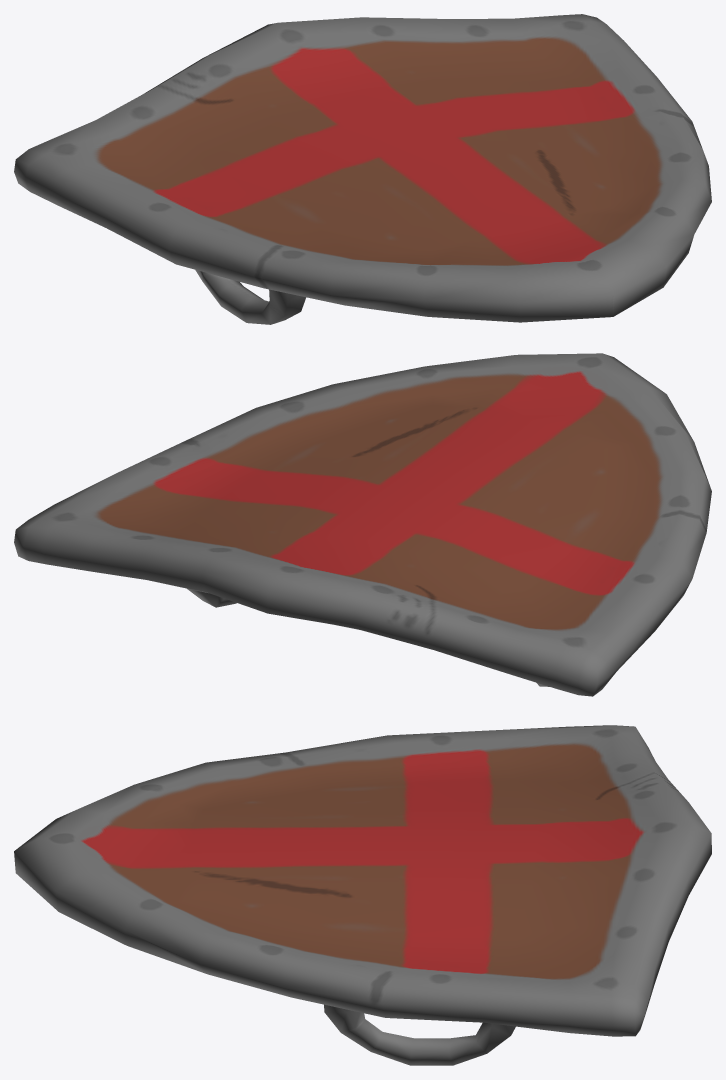
Rendered from Shield.FBX.
3 renders of one model, top to bottom at view 1: azimuth 30°, elevation 25°; view 2: azimuth 150°, elevation 25°; view 3: azimuth 270°, elevation 25°, orthographic.
Visible parts, largest first — view 1: Group34193; view 2: Group34193; view 3: Group34193.
Boxes of the visible parts, x1,y1,x2,y2 form: Group34193: (14,14,711,324); Group34193: (14,353,711,696); Group34193: (14,725,711,1065).
Size of the model in its own units: 35.83 by 9.21 by 36.84.
